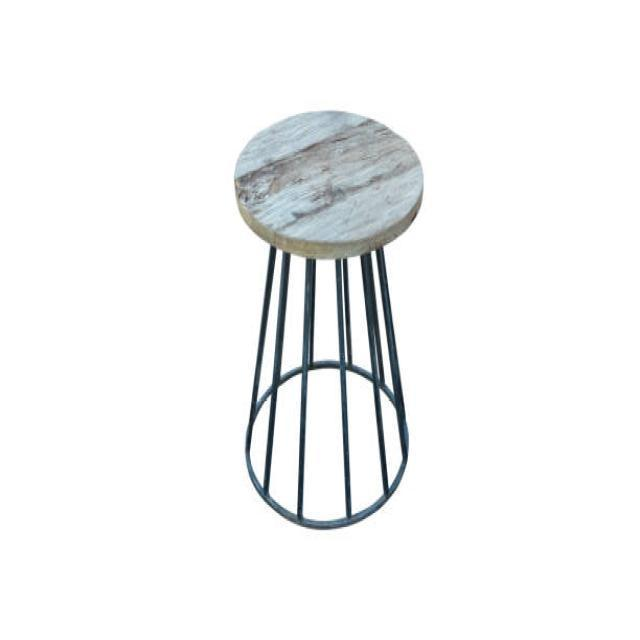table: (232, 108, 424, 529)
